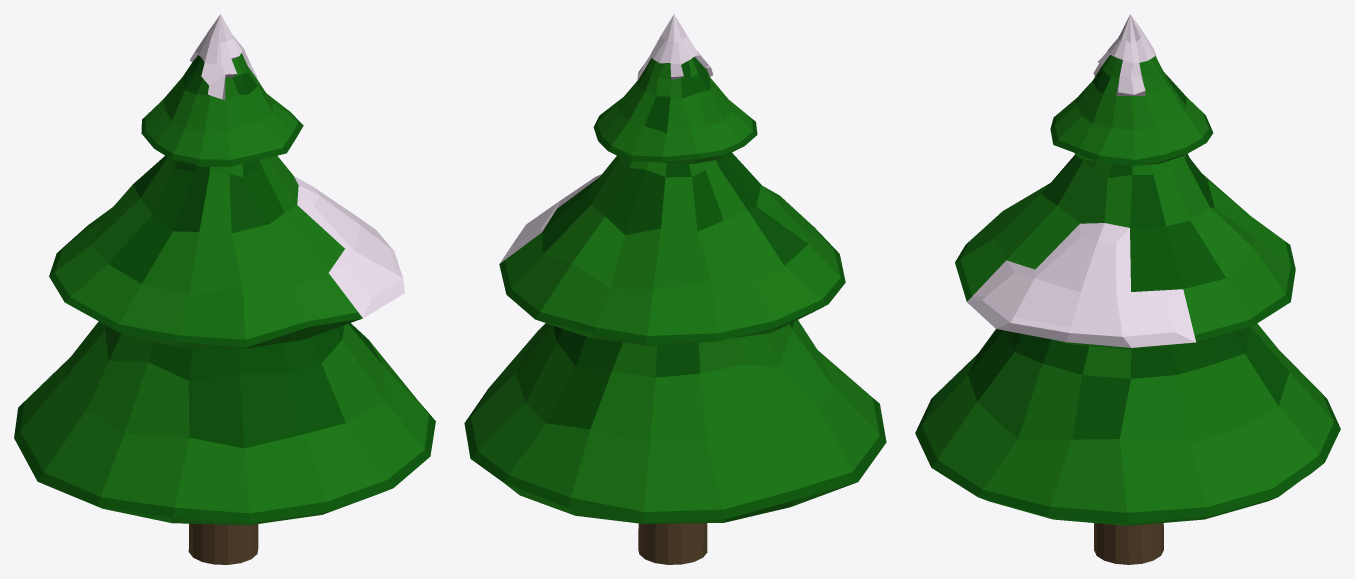
The model's file is tree.fbx.
The picture shows the model from 3 angles, left to right: view 1: azimuth 30°, elevation 25°; view 2: azimuth 150°, elevation 25°; view 3: azimuth 270°, elevation 25°; orthographic projection.
Parts seen in each view (by area): view 1: Cylinder; view 2: Cylinder; view 3: Cylinder.
Part boxes in pixels (box(x1,y1,x2,y2)): Cylinder: box(14, 14, 435, 564); Cylinder: box(464, 14, 886, 564); Cylinder: box(915, 14, 1340, 564).
Size of the model in its own units: 161 by 223 by 161.
